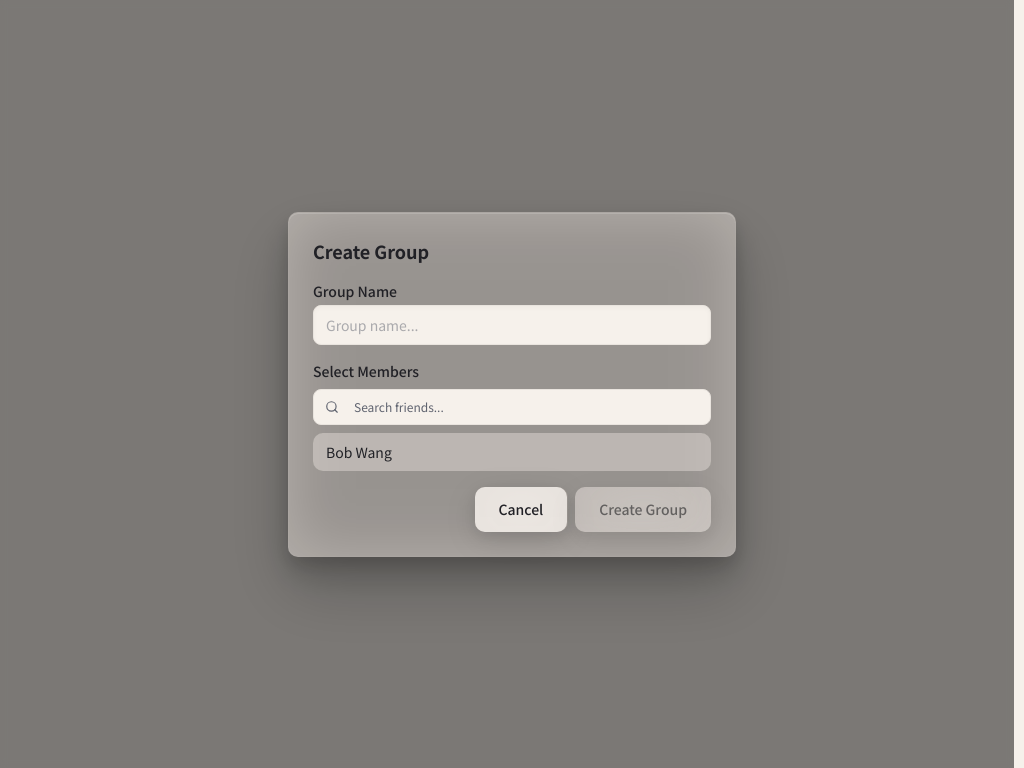
Test case: TC-F-26: BAD_REQUEST GraphQL error prevents success callback › button shows loading state while mutation is in flight before a BAD_REQUEST arrives
The image size is (1024, 768).
Type "Bad Group" into the field labelled "Group Name".
click(512, 324); type("Bad Group")  # box [313,304,711,344]
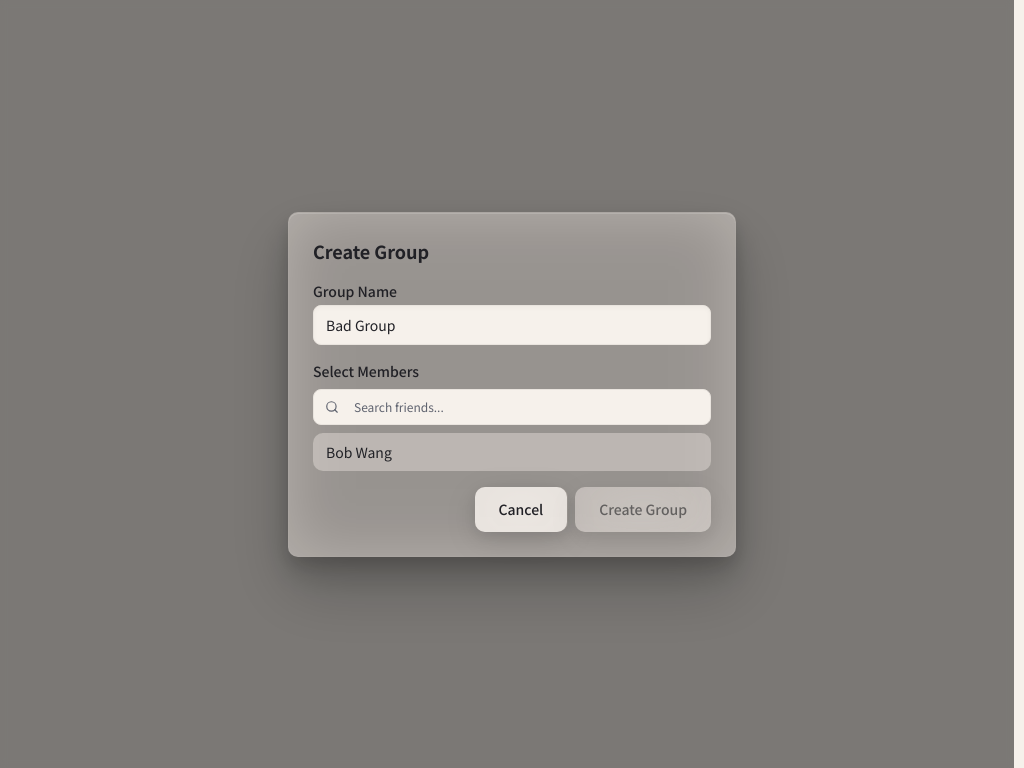
Click the checkbox labelled "Bob Wang".
click(359, 452)  # box [313,432,711,470]
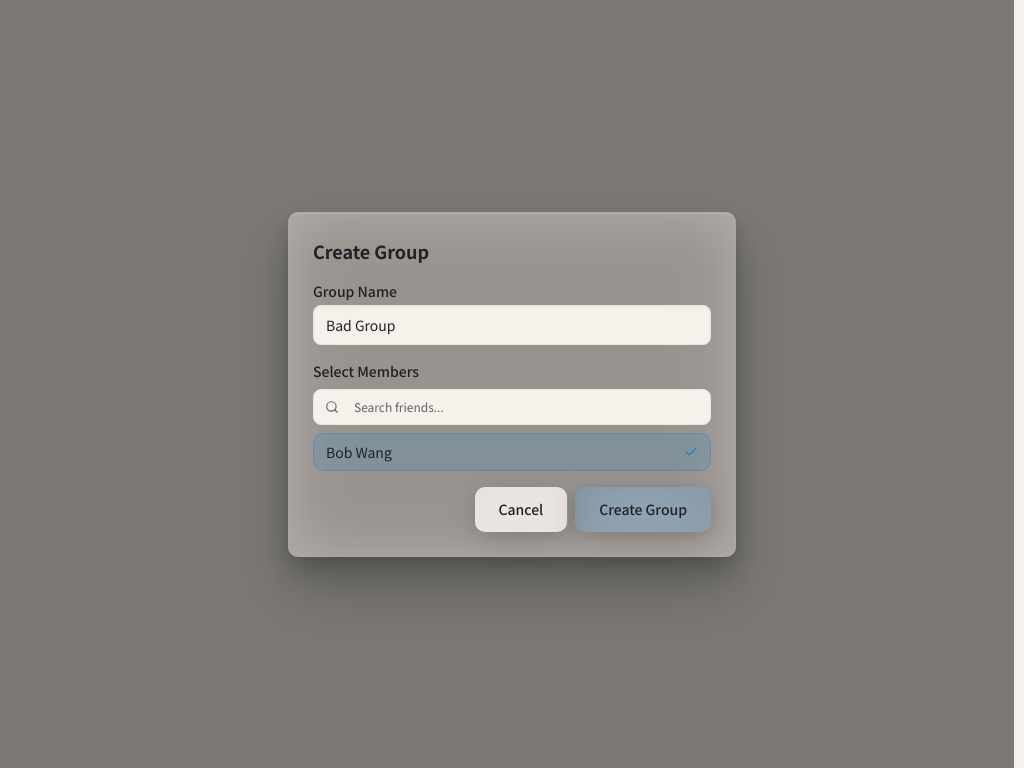
Click the button "Create Group".
click(643, 509)  # box [575,486,711,532]
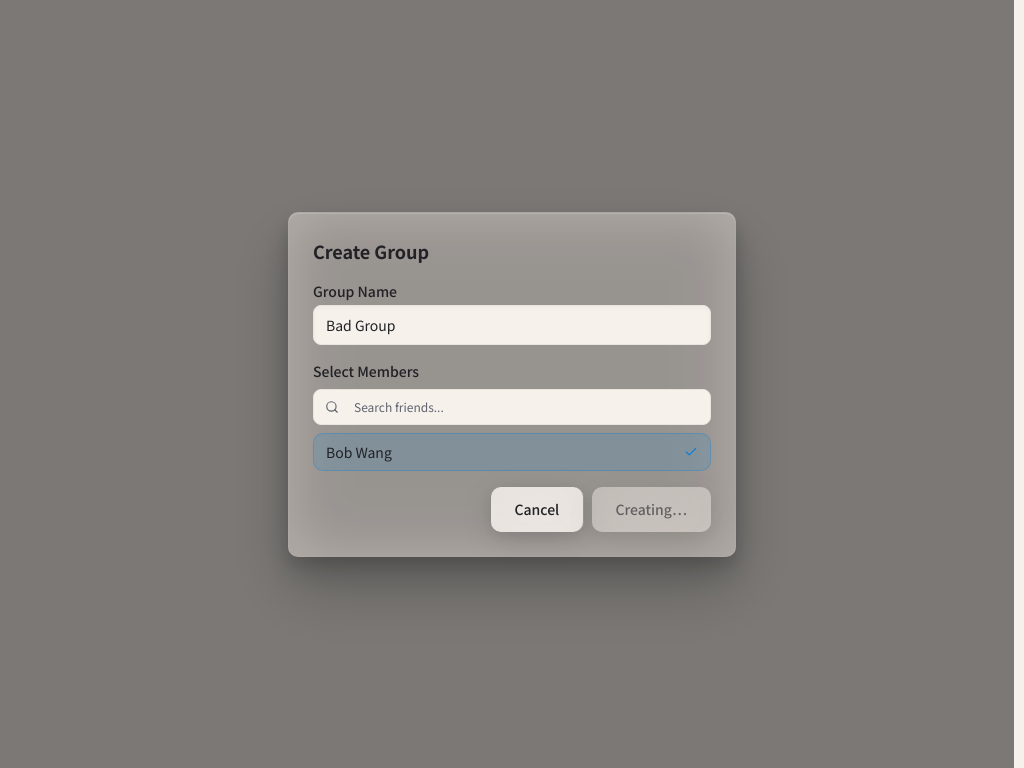
Result: the button "Creating…" is shown at [592,486,711,532]
